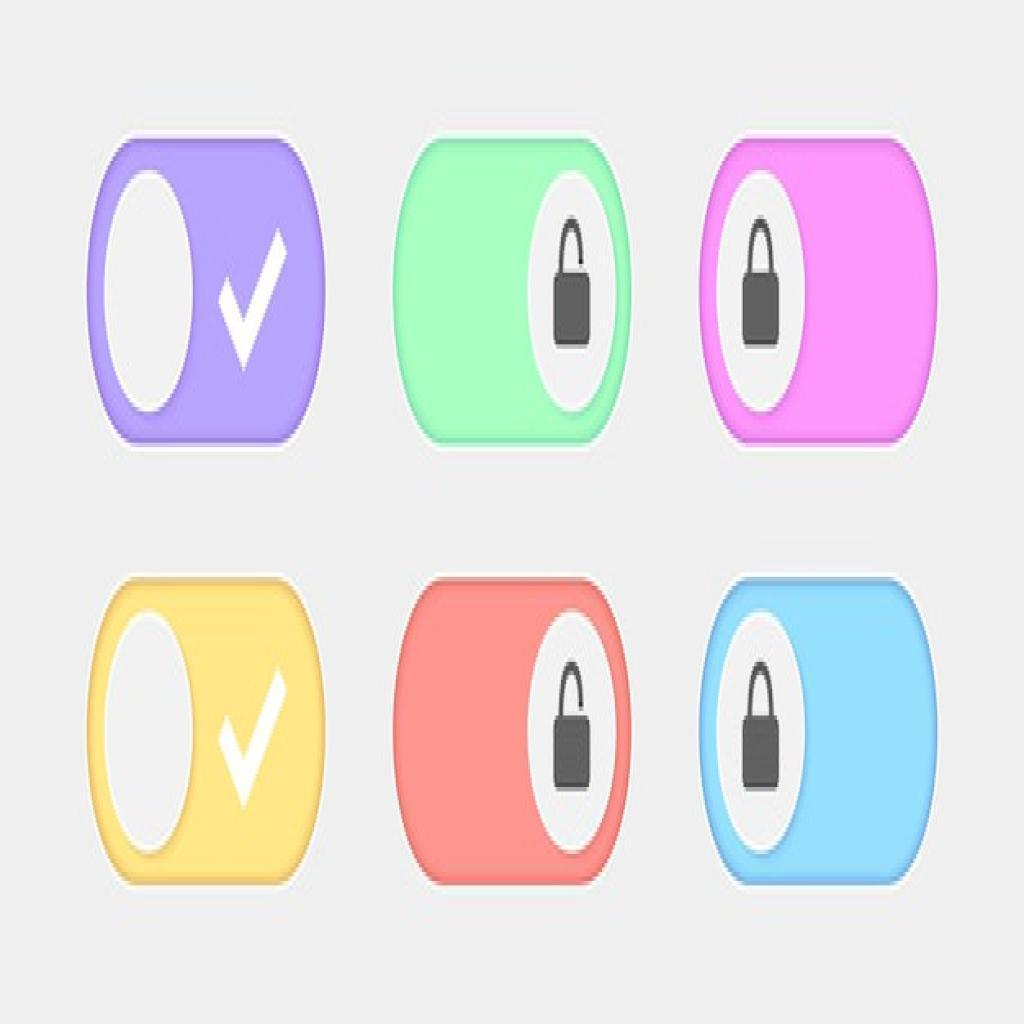switch: (396, 579, 641, 887), (700, 138, 942, 447), (88, 580, 329, 887), (88, 140, 326, 447), (396, 140, 629, 447), (705, 582, 936, 887)
